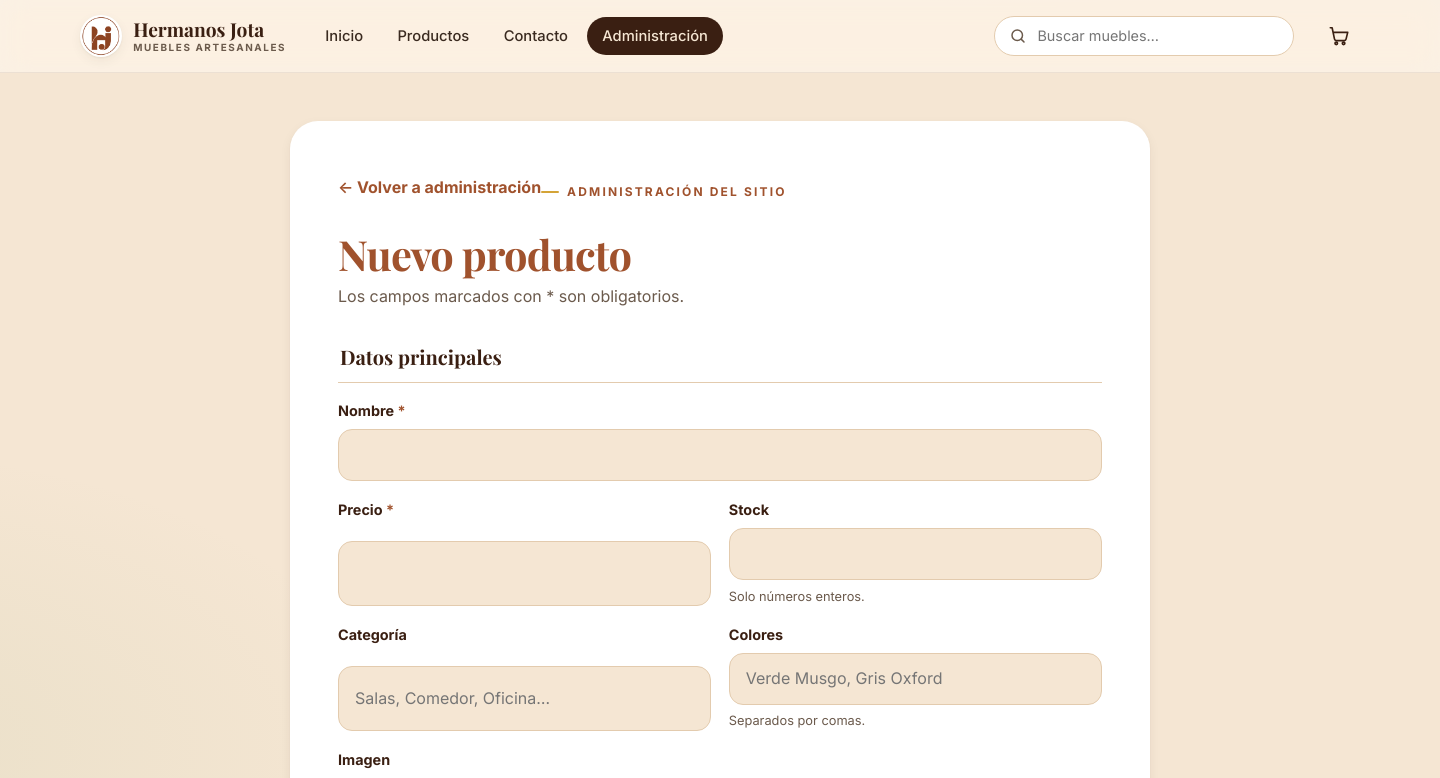
crear un producto envía POST con los datos y vuelve a administración con un mensaje
This screenshot has width=1440, height=778.
Type "  Banco Delta " into the field labelled "Nombre *" at coordinates (720, 455), box [338,429,1102,481]
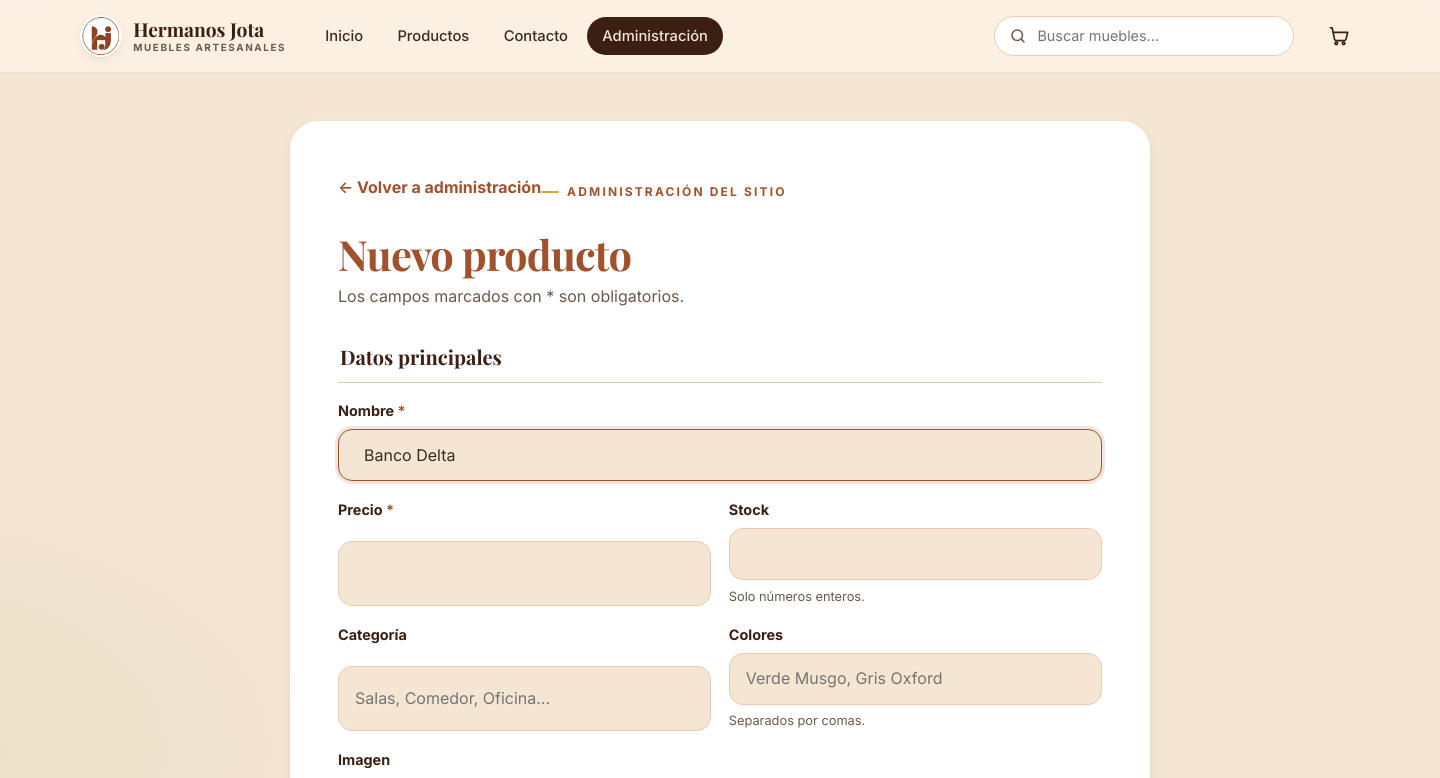
Type "9900" into the number field labelled "Precio *" at coordinates (525, 574), box [338,541,711,606]
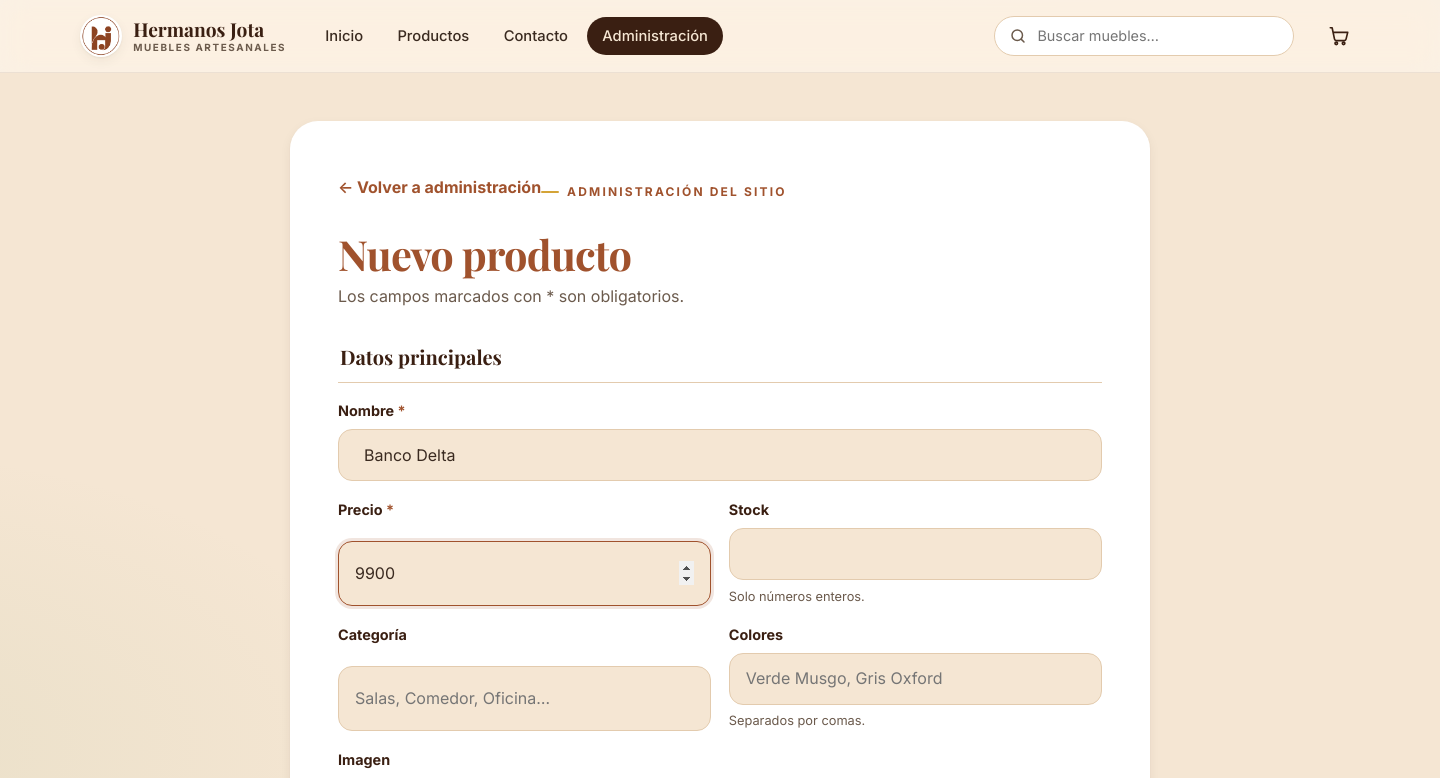
Type "2" into the field labelled "Stock" at coordinates (915, 554), box [729,528,1102,580]
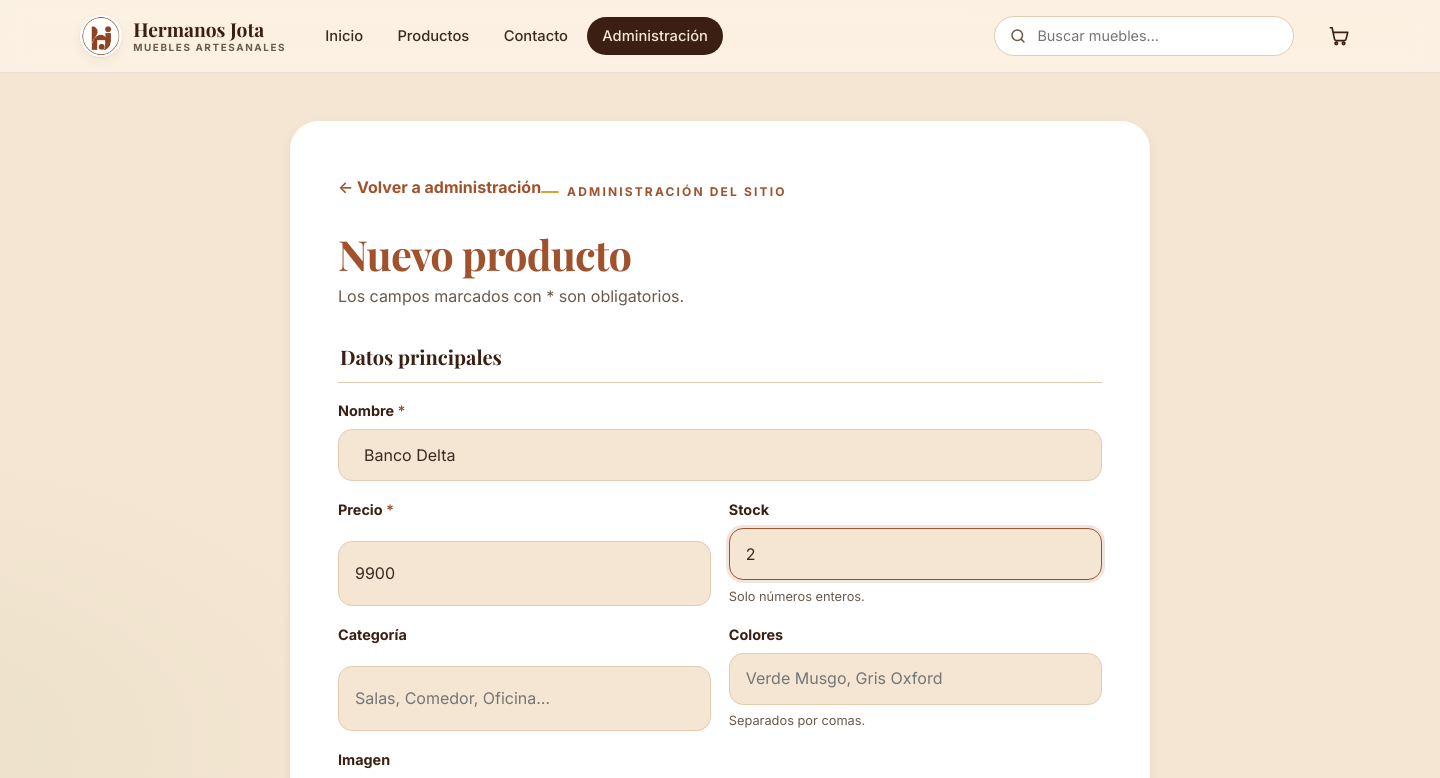
Type "Roble, Negro" into the field labelled "Colores" at coordinates (915, 679), box [729,653,1102,705]
(page scrolled)
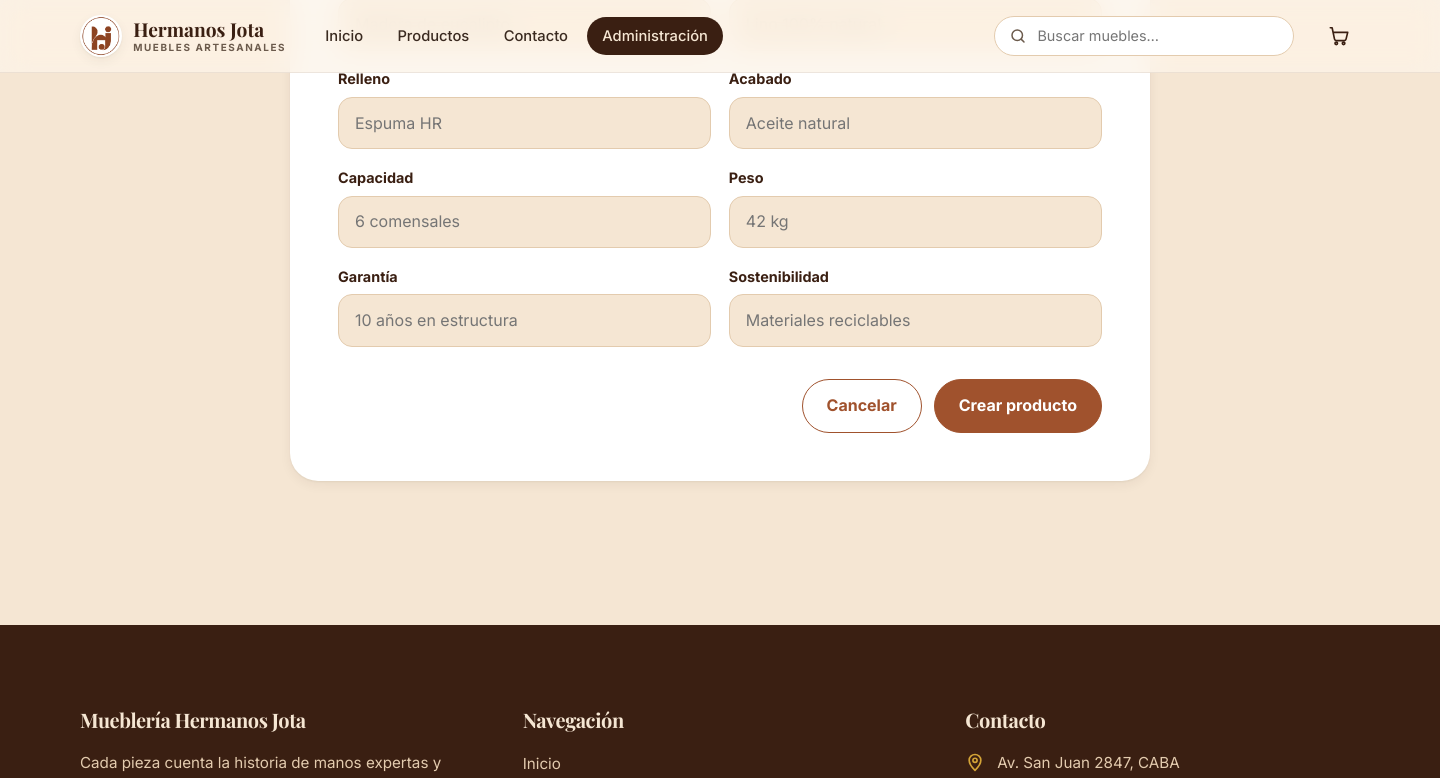
Click the button "Crear producto" at coordinates (1018, 406), box [934,379,1102,433]
(page scrolled)
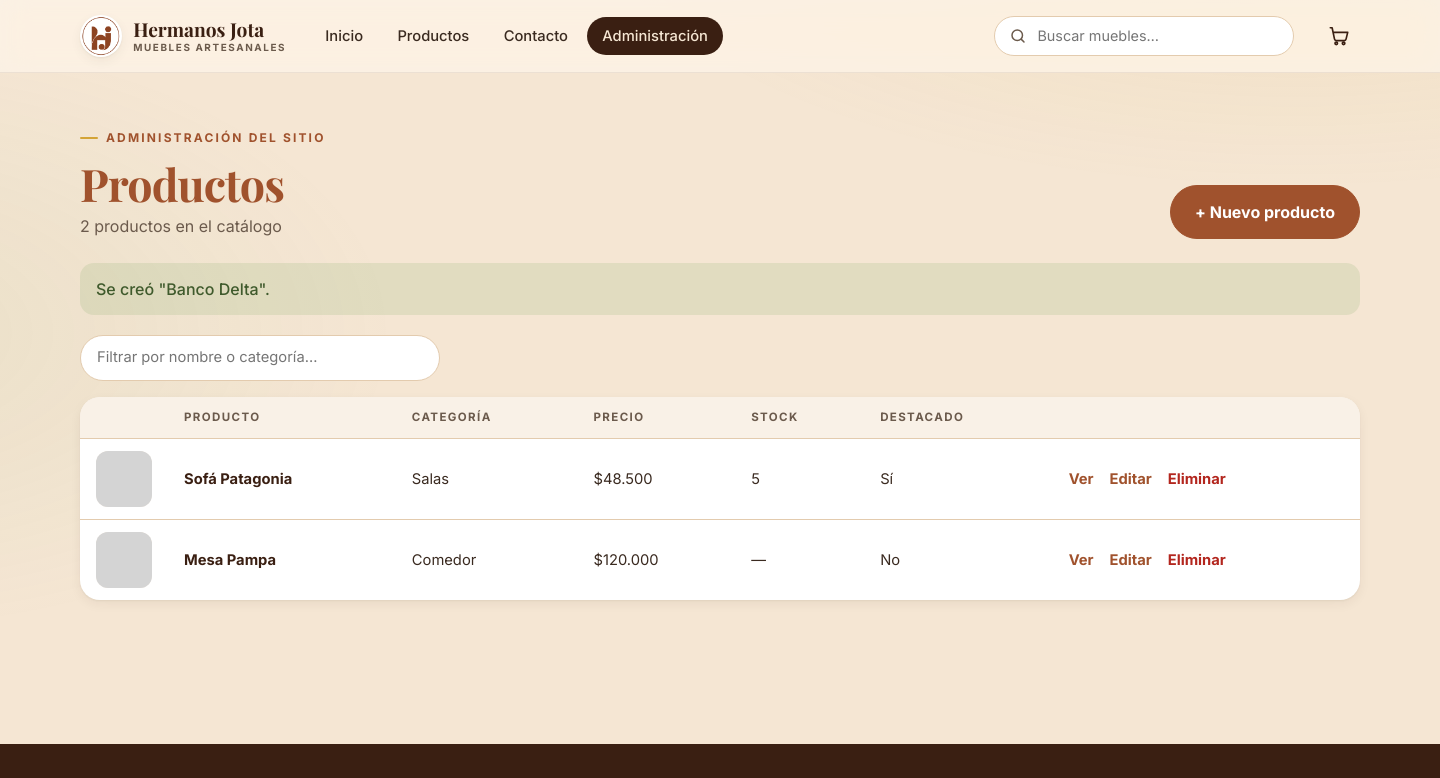
Result: the message reads "Se creó \"Banco Delta\"." at [96,278,270,298]
Result: the heading "Productos" is shown at [80,154,284,213]
